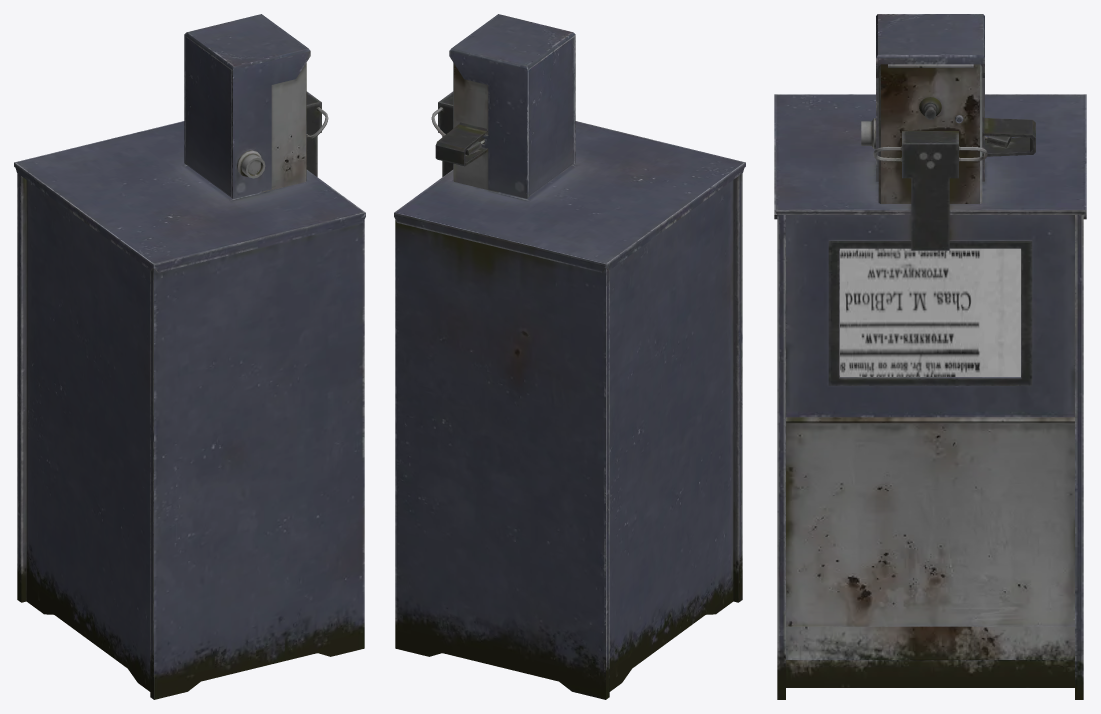
3 views of the same model, side by side, from view 1: azimuth 30°, elevation 25°; view 2: azimuth 150°, elevation 25°; view 3: azimuth 270°, elevation 25° (orthographic). The views are drawn at different scales.
Visible parts, largest first — view 1: Object_3; view 2: Object_3; view 3: Object_3, Object_2.
Part boxes in pixels (x1=…): Object_3: x1=14, y1=14, x2=365, y2=699; Object_3: x1=394, y1=14, x2=745, y2=699; Object_3: x1=774, y1=14, x2=1086, y2=699; Object_2: x1=840, y1=248, x2=1020, y2=376.
Size of the model in its own units: 0.586 by 1.42 by 0.6277.
2 materials, 2 textured.
